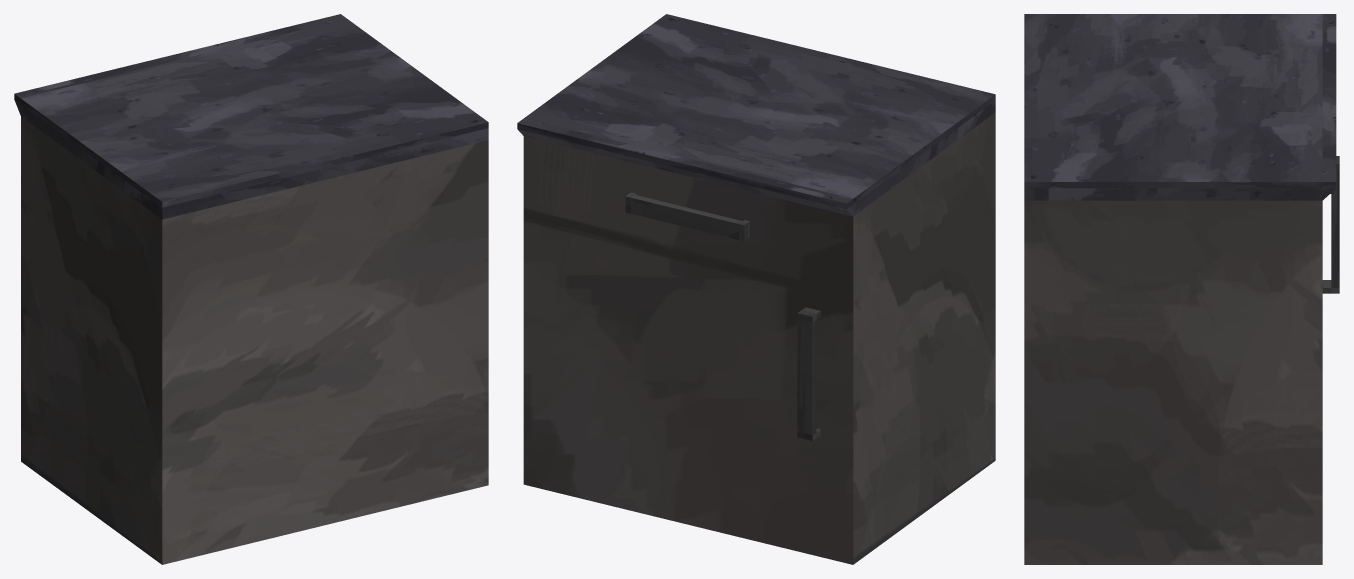
File: M-Cabin2.fbx
The picture shows the model from 3 angles, left to right: view 1: azimuth 30°, elevation 25°; view 2: azimuth 150°, elevation 25°; view 3: azimuth 270°, elevation 25°; orthographic projection. The views are drawn at different scales.
Visible parts, largest first — view 1: Cube.002; view 2: Cube.002; view 3: Cube.002.
Boxes of the visible parts, left/top/right/bottom form: Cube.002: left=14, top=14, right=488, bottom=564; Cube.002: left=517, top=14, right=995, bottom=564; Cube.002: left=1024, top=14, right=1339, bottom=564.
Size of the model in its own units: 80 by 63.41 by 85.
2 materials, 2 textured.
